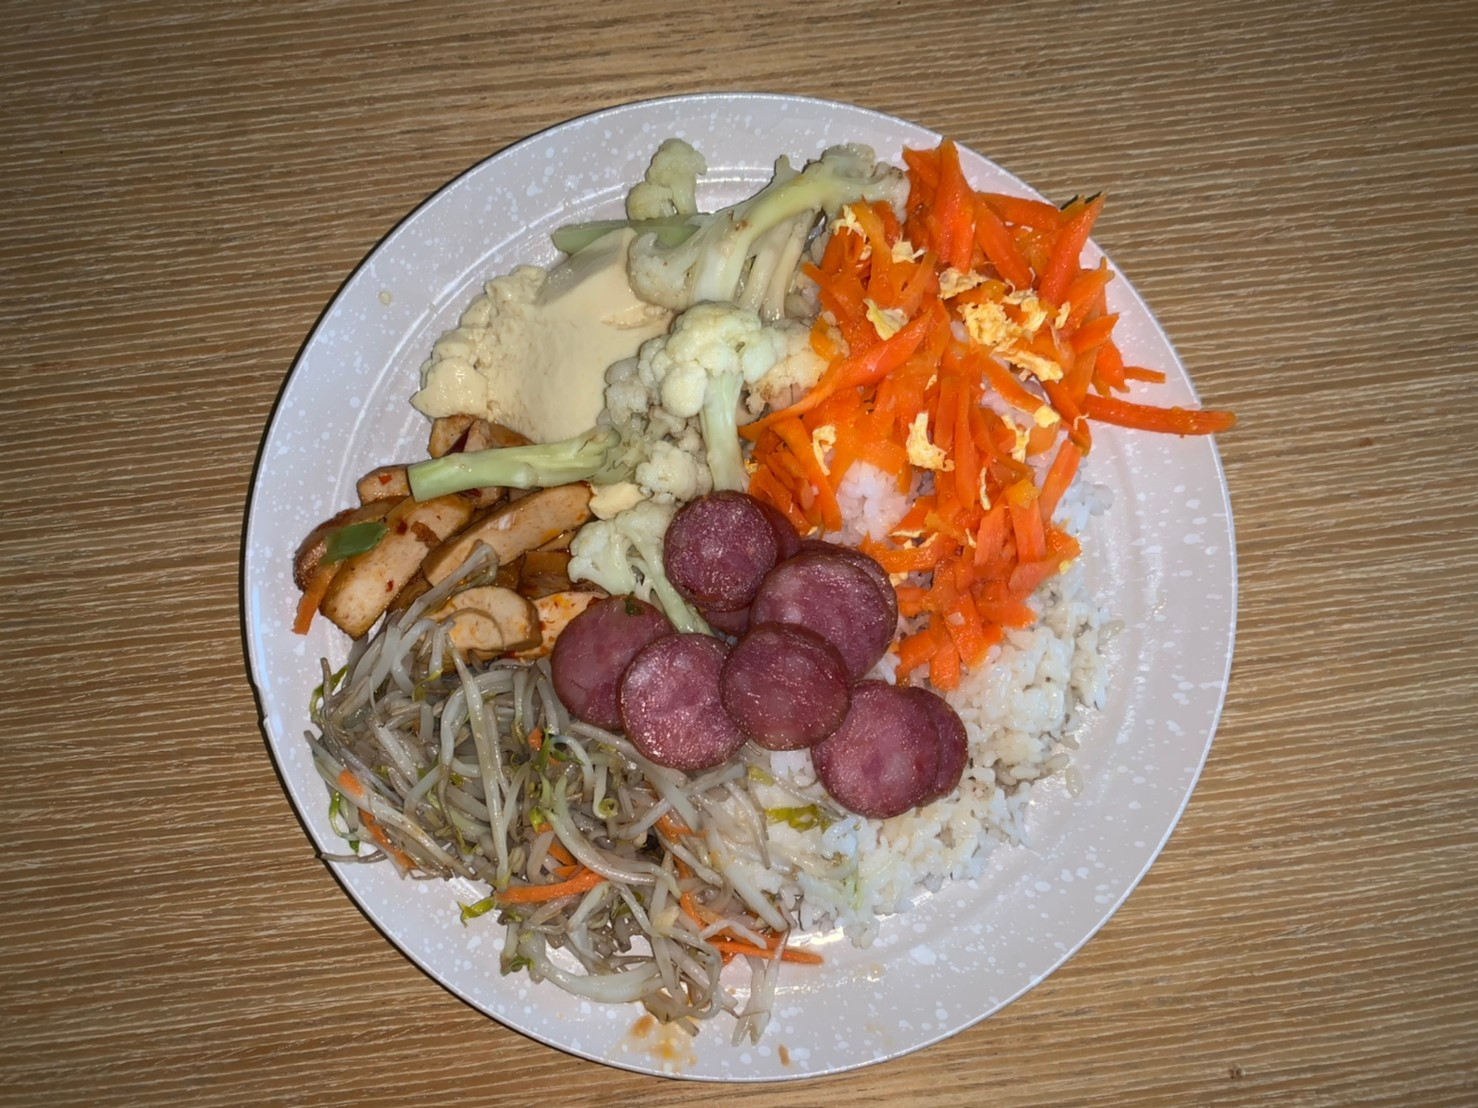carrot_eggs: (783, 138, 1115, 644)
chinese_sausage: (564, 489, 961, 814)
mung_bean_sprouts: (322, 690, 749, 975)
rice: (961, 615, 1083, 776)
